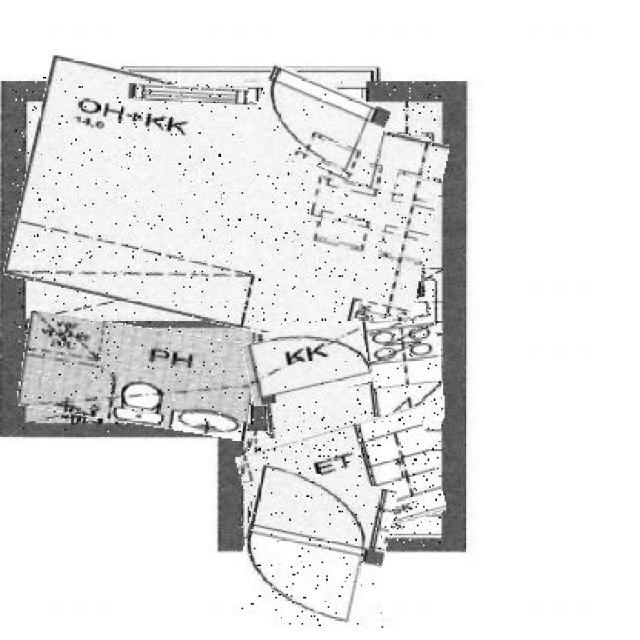door: (240, 469, 391, 628), (251, 74, 386, 172), (245, 325, 369, 400)
window: (128, 85, 249, 103)
zone: (12, 77, 440, 343), (20, 318, 257, 432), (242, 418, 442, 550), (260, 318, 443, 434)
